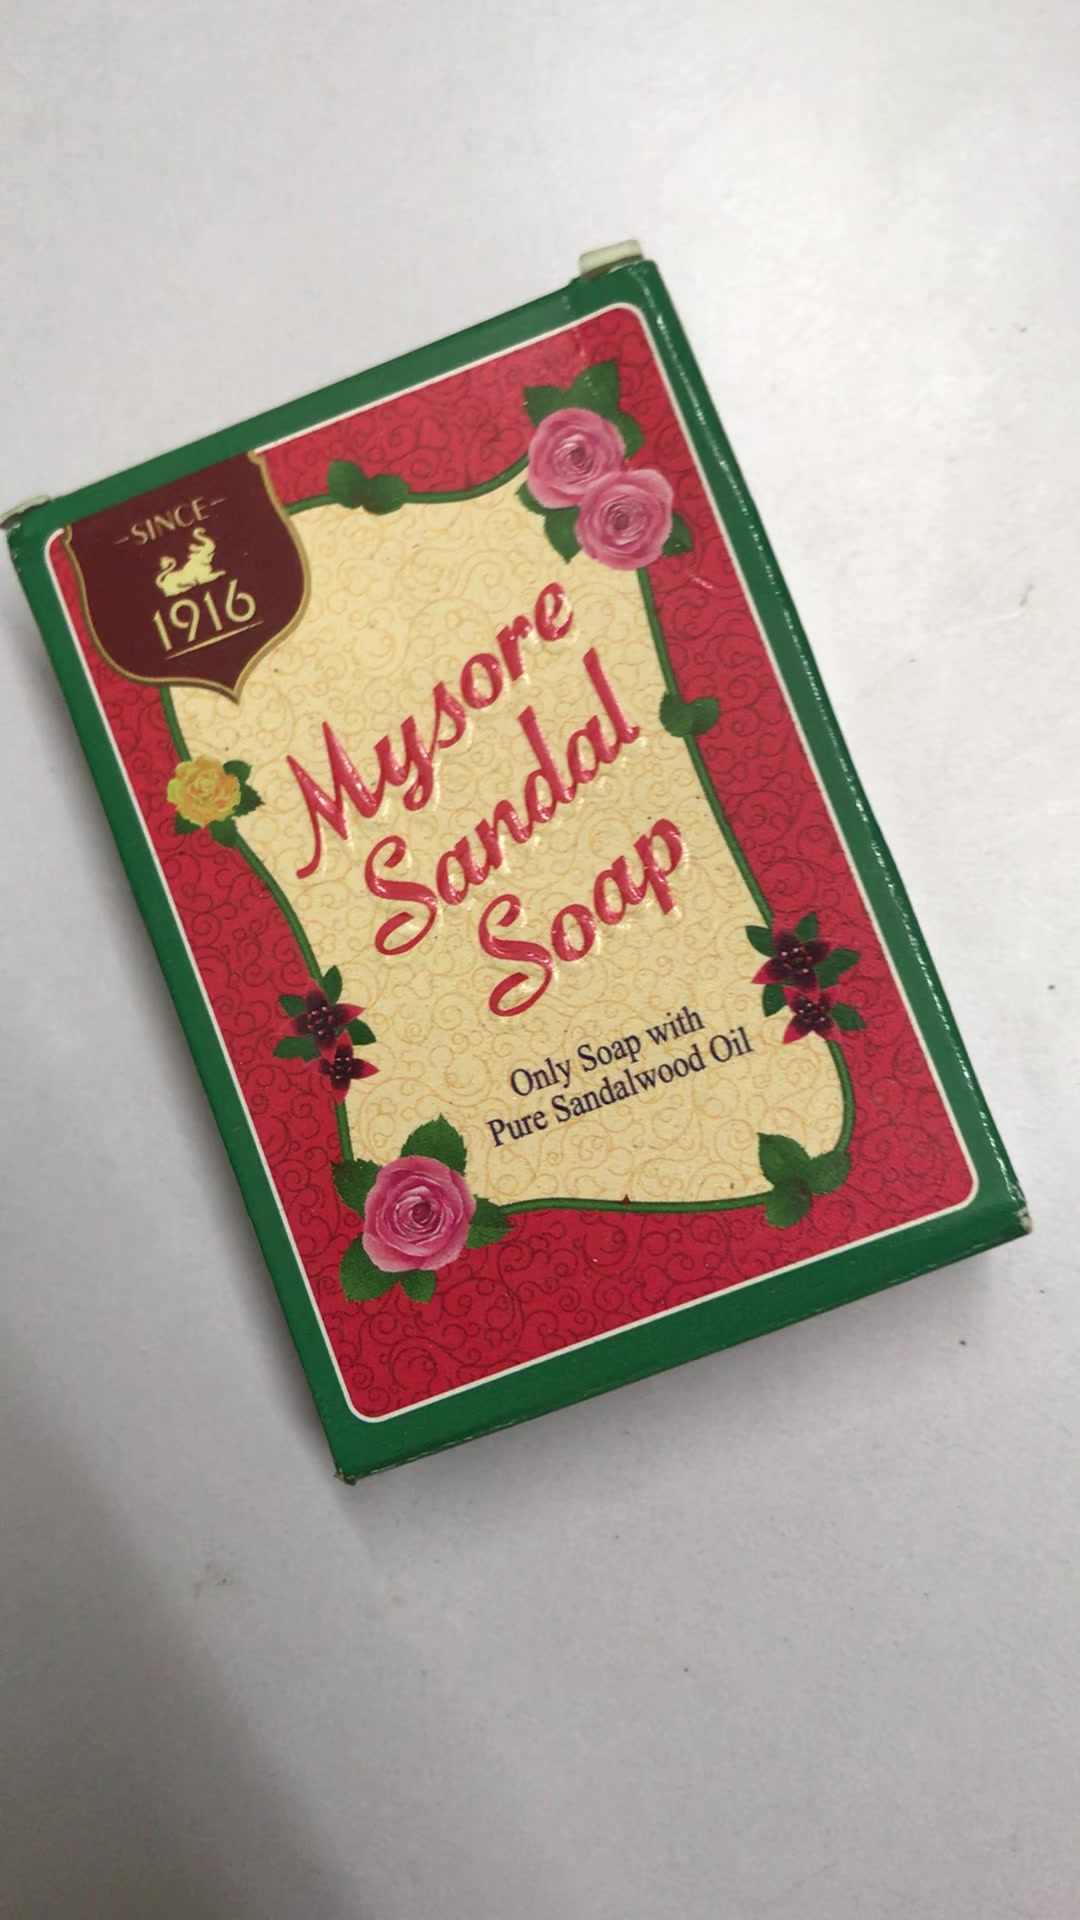mysore sandal soap: (7, 255, 1029, 1484)
